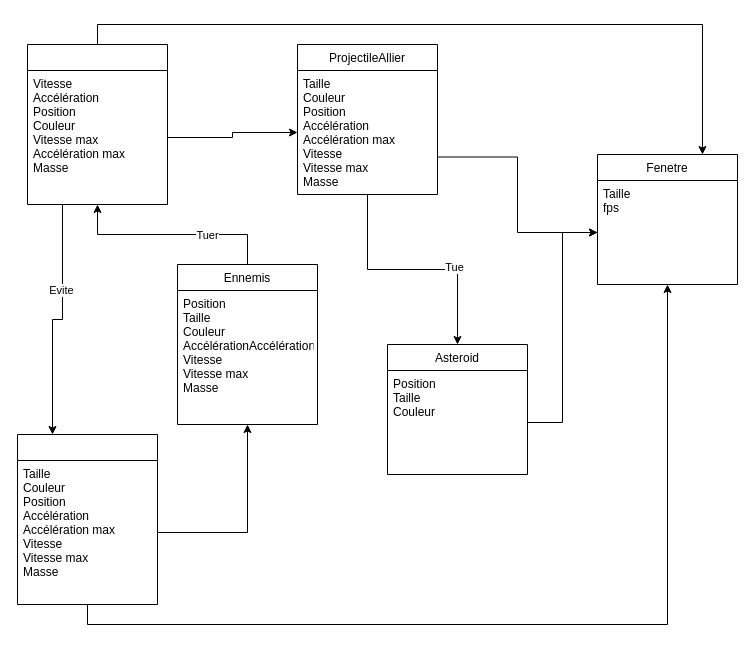
Image size: 755x650. Some labels were removed from this diagram. Here are the shapes that lost their labels. From the top down, the box of each, then its label:
(26, 44, 168, 204): Vaisseau
(16, 434, 158, 604): ProjectileEnnemis
